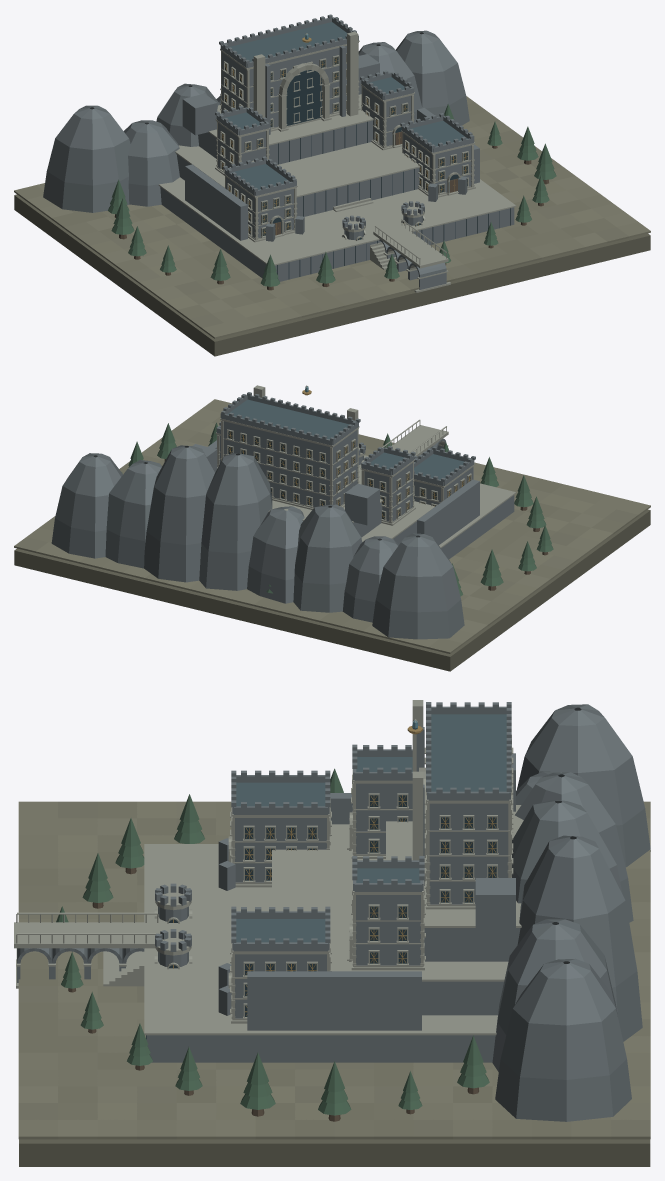
File: mountain.glb
3 renders of one model, top to bottom at view 1: azimuth 30°, elevation 25°; view 2: azimuth 150°, elevation 25°; view 3: azimuth 270°, elevation 25°, orthographic. The views are drawn at different scales.
Visible parts, largest first — view 1: site, citadel-terraces, bastions, great-gate, bastions-roof, landscape, great-gate-roof, approach, bastions-ornament, approach-roof; view 2: site, great-gate, bastions, great-gate-roof, citadel-terraces, landscape, bastions-roof, approach; view 3: site, citadel-terraces, bastions, bastions-roof, great-gate, landscape, great-gate-roof, approach, bastions-ornament, approach-roof.
Boxes of the visible parts, left/top/right/bottom form: site: left=14, top=30, right=650, bottom=356; citadel-terraces: left=158, top=94, right=516, bottom=281; bastions: left=182, top=54, right=479, bottom=242; great-gate: left=220, top=31, right=360, bottom=134; bastions-roof: left=215, top=70, right=474, bottom=195; landscape: left=108, top=104, right=556, bottom=290; great-gate-roof: left=219, top=14, right=358, bottom=67; approach: left=342, top=205, right=450, bottom=292; bastions-ornament: left=266, top=176, right=467, bottom=241; approach-roof: left=342, top=201, right=424, bottom=229; site: left=14, top=399, right=650, bottom=671; great-gate: left=220, top=385, right=359, bottom=509; bastions: left=192, top=432, right=479, bottom=544; great-gate-roof: left=220, top=392, right=360, bottom=445; citadel-terraces: left=217, top=455, right=516, bottom=559; landscape: left=121, top=422, right=553, bottom=596; bastions-roof: left=216, top=422, right=475, bottom=485; approach: left=358, top=419, right=448, bottom=464; site: left=18, top=704, right=650, bottom=1166; citadel-terraces: left=103, top=805, right=523, bottom=1062; bastions: left=228, top=753, right=515, bottom=1030; bastions-roof: left=231, top=744, right=424, bottom=951; great-gate: left=412, top=700, right=513, bottom=909; landscape: left=56, top=768, right=489, bottom=1121; great-gate-roof: left=426, top=702, right=511, bottom=800; approach: left=14, top=890, right=192, bottom=988; bastions-ornament: left=218, top=838, right=235, bottom=1015; approach-roof: left=155, top=883, right=191, bottom=951.
Bounding box in the file's own units: 59.01 × 23.06 × 47.43.
